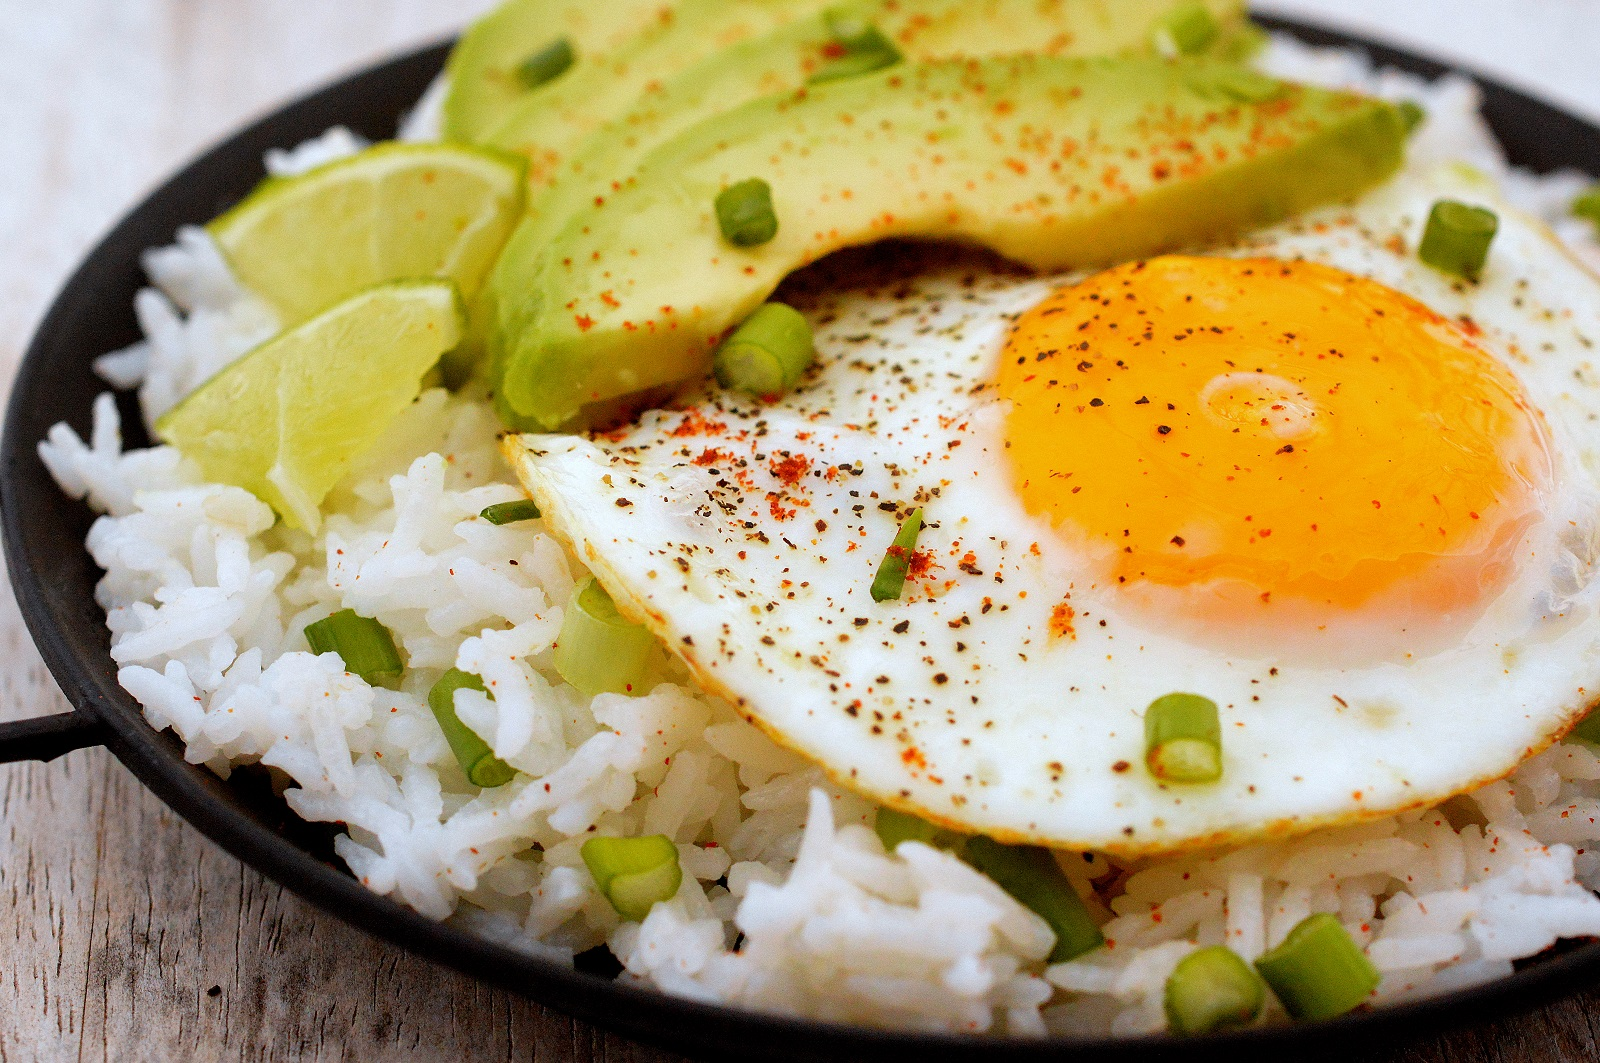fried egg: (627, 375, 1556, 768)
plain rice: (344, 736, 840, 995)
